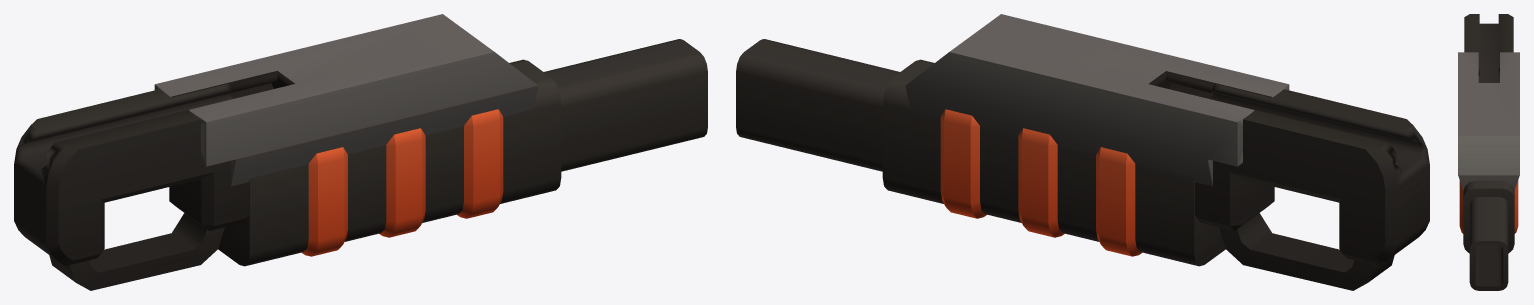
The model's file is UnderBarrel_GrenadeLauncher.fbx.
The picture shows the model from 3 angles, left to right: view 1: azimuth 30°, elevation 25°; view 2: azimuth 150°, elevation 25°; view 3: azimuth 270°, elevation 25°; orthographic projection. The views are drawn at different scales.
Parts seen in each view (by area): view 1: UnderBarrel_GrenadeLauncher; view 2: UnderBarrel_GrenadeLauncher; view 3: UnderBarrel_GrenadeLauncher.
Boxes of the visible parts, x1,y1,x2,y2 form: UnderBarrel_GrenadeLauncher: [14, 14, 707, 290]; UnderBarrel_GrenadeLauncher: [736, 14, 1429, 290]; UnderBarrel_GrenadeLauncher: [1458, 14, 1519, 290].
Size of the model in its own units: 37.31 by 9.21 by 5.07.
